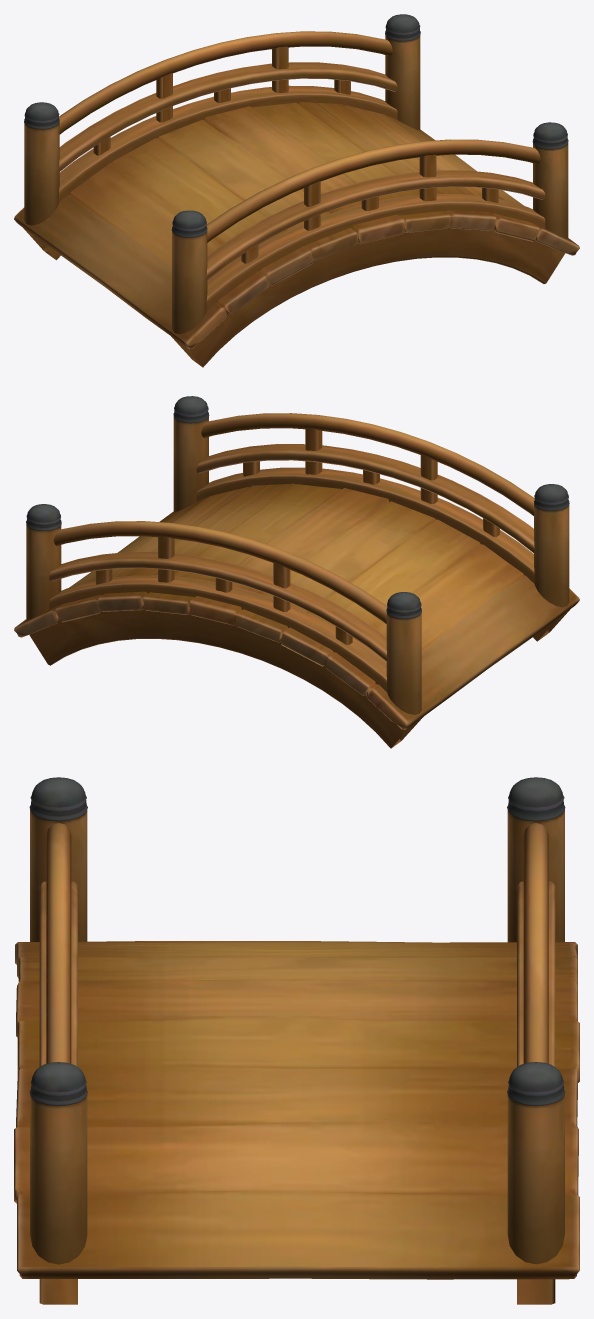
File: bridge-japanese.glb
3 renders of one model, top to bottom at view 1: azimuth 30°, elevation 25°; view 2: azimuth 150°, elevation 25°; view 3: azimuth 270°, elevation 25°, orthographic. The views are drawn at different scales.
Size of the model in its own units: 38.65 by 15.97 by 29.64.
1 material, 1 textured.
